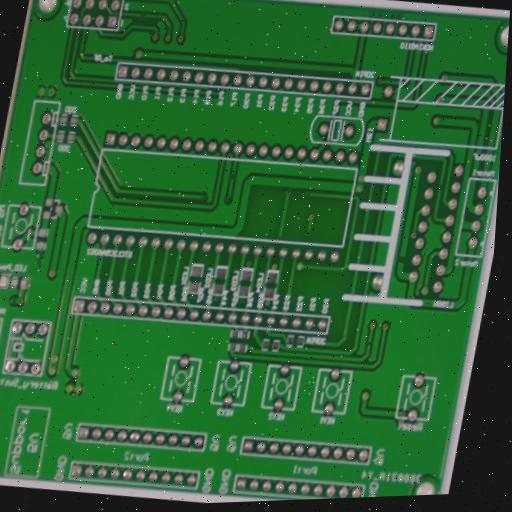open_circuit: (397, 252, 409, 266), (137, 10, 148, 21), (436, 181, 444, 194), (229, 170, 236, 184), (365, 338, 373, 349)
